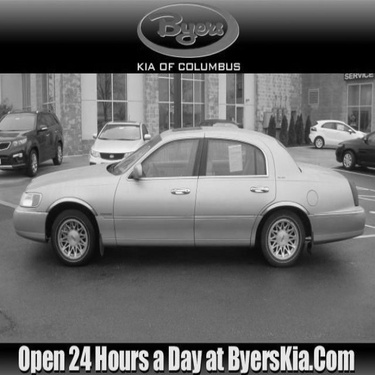car: (5, 121, 371, 269), (3, 100, 64, 177), (86, 115, 154, 173), (302, 114, 369, 150), (334, 126, 373, 172), (195, 117, 244, 133)
